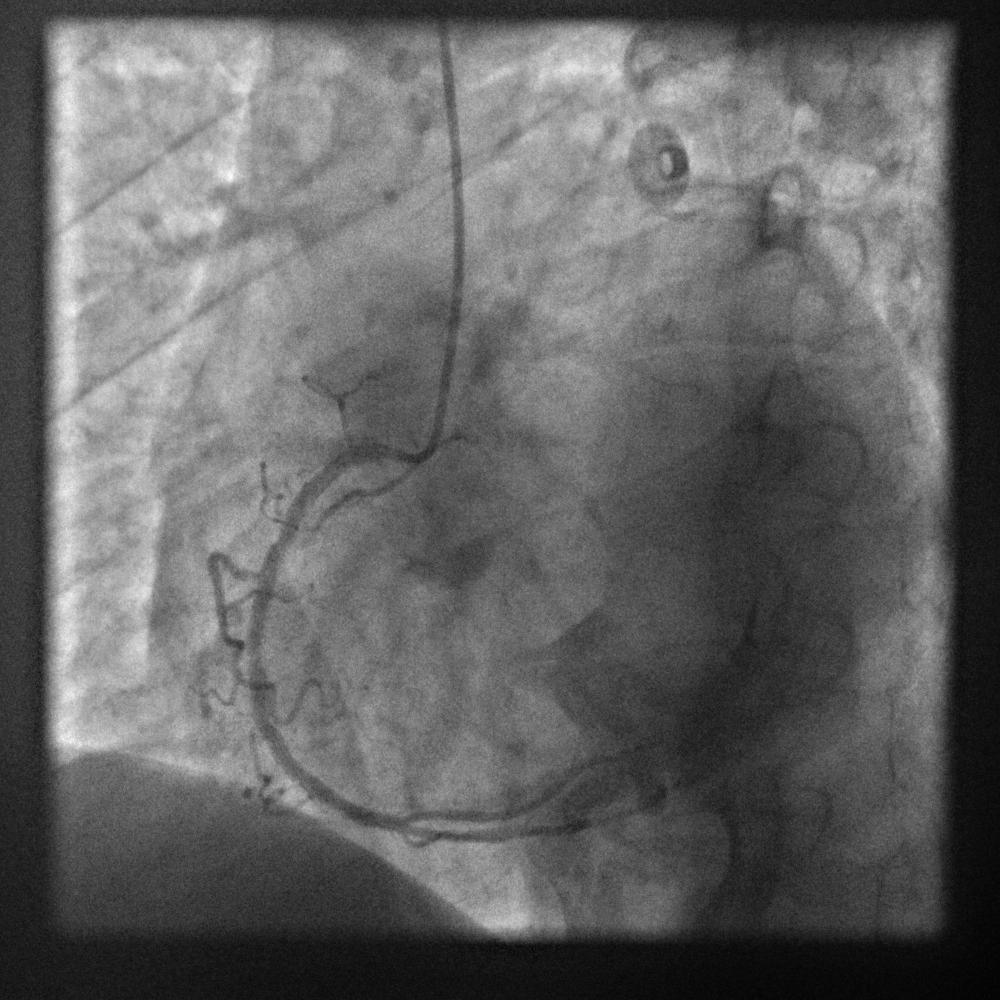Stenosis: (263, 500, 297, 554)
